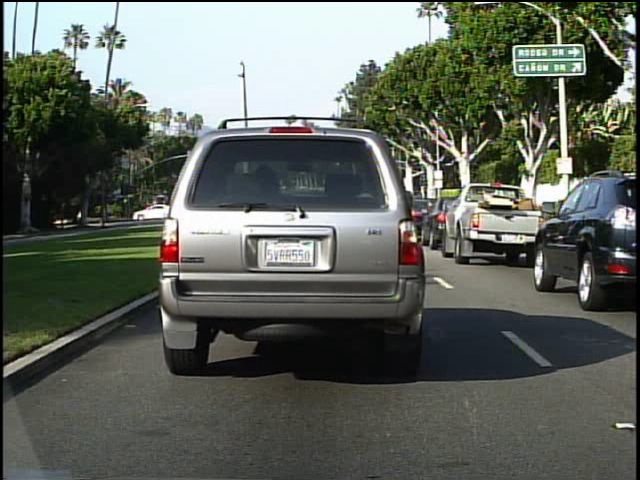person: (73, 207, 87, 229)
